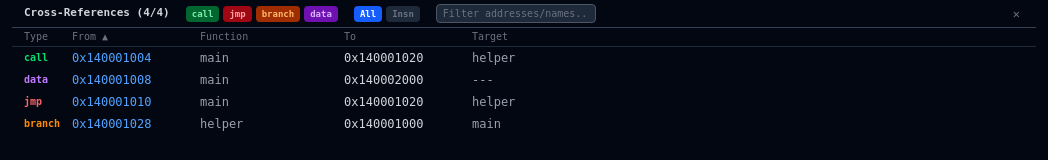
Test: XrefPanel › scopes › scopes by instruction, and the To/From toggle flips which end is matched
Step 1. Click the button "Insn" → (403, 14), box [386,6,420,22]
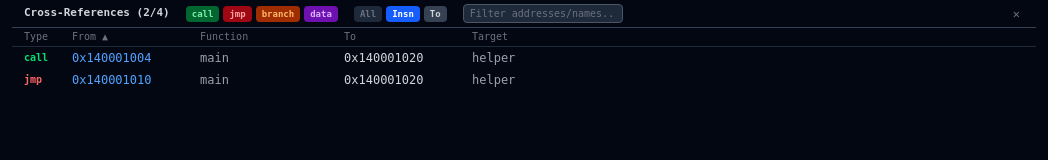
Expected: the button with aria-label "Reference direction:" reads "To"
Step 2. Click the button with aria-label "Reference direction:" → (435, 14), box [424,6,447,22]
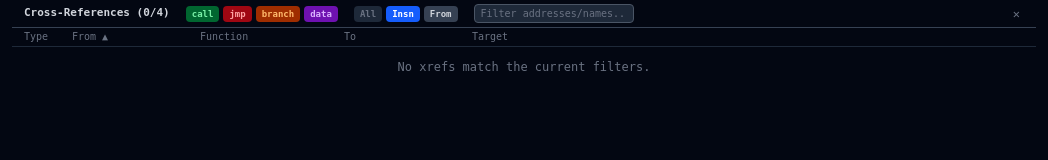
Expected: the button with aria-label "Reference direction:" reads "From", [424,6,458,22]
Expected: the text "No xrefs match the current filters." is shown, [398,60,650,74]
